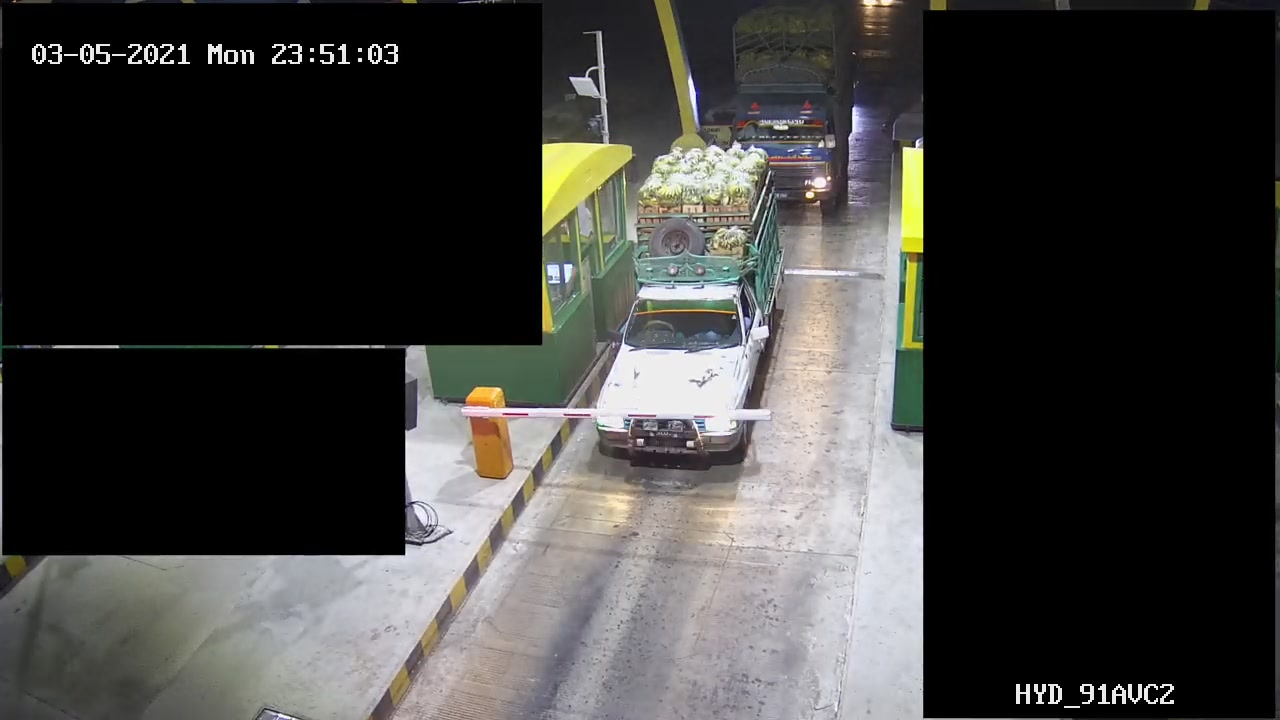F2: (590, 147, 789, 464)
